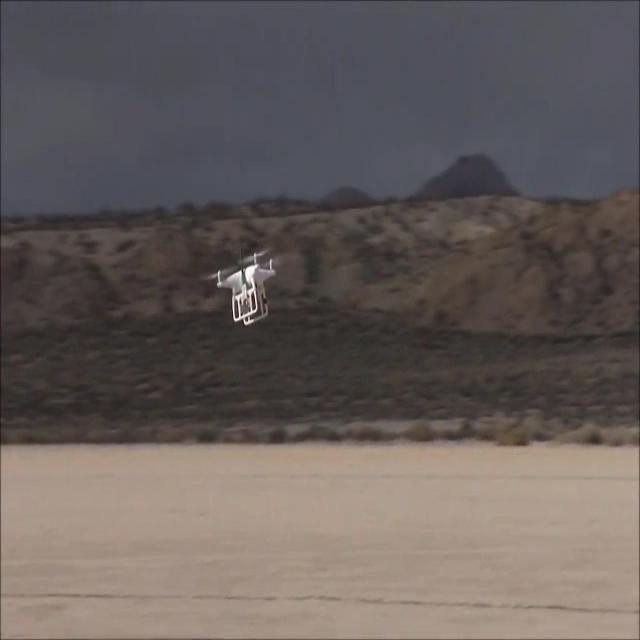drone: (209, 248, 279, 327)
